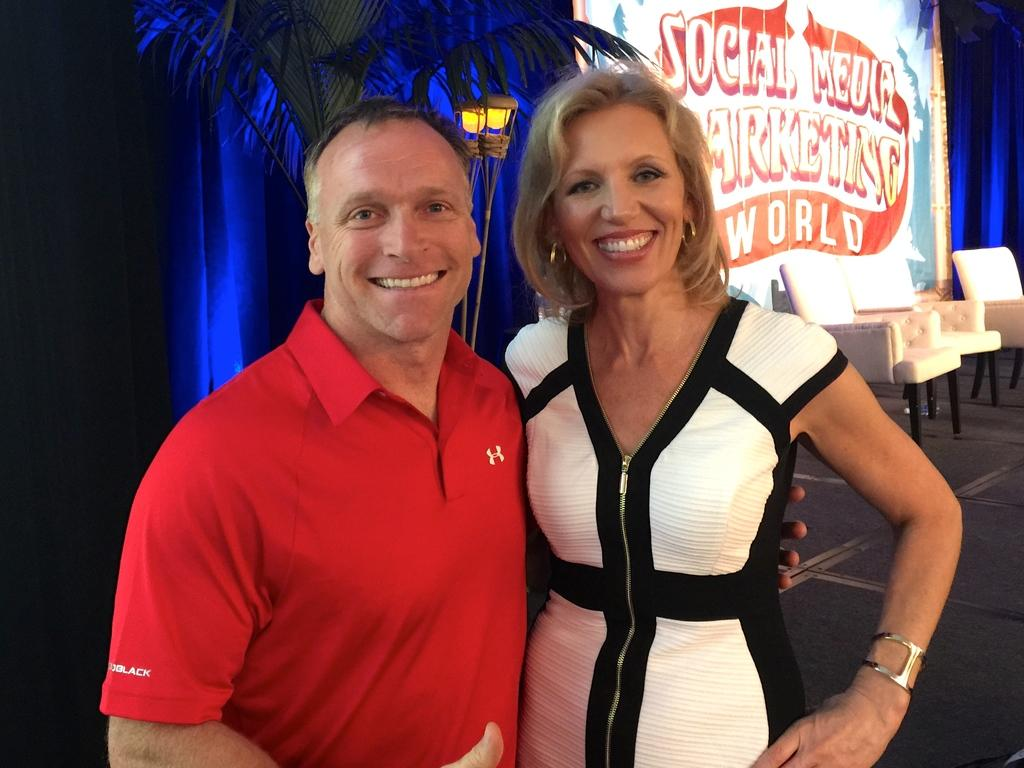Chair: (779, 257, 961, 443), (835, 250, 1005, 417), (945, 245, 1023, 394)
